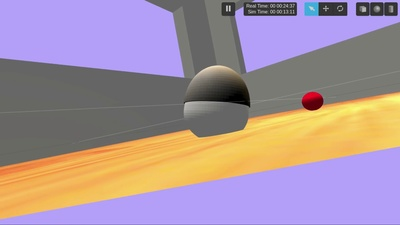mira_robot: (183, 65, 251, 137)
